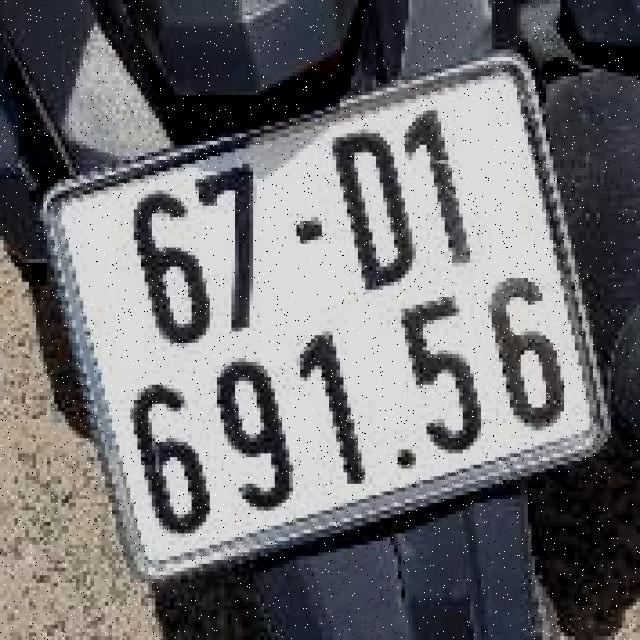1: (300, 328, 376, 488), (408, 107, 481, 270)
5: (399, 293, 486, 457)
6: (123, 185, 213, 345), (125, 383, 215, 539), (484, 276, 568, 432)
7: (204, 166, 280, 337)
9: (219, 354, 298, 514)
D: (332, 126, 416, 293)
